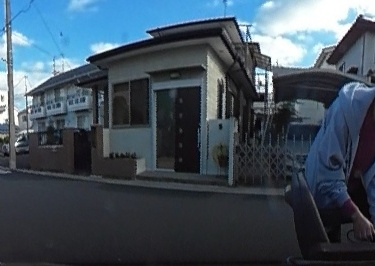person: (305, 61, 375, 242)
